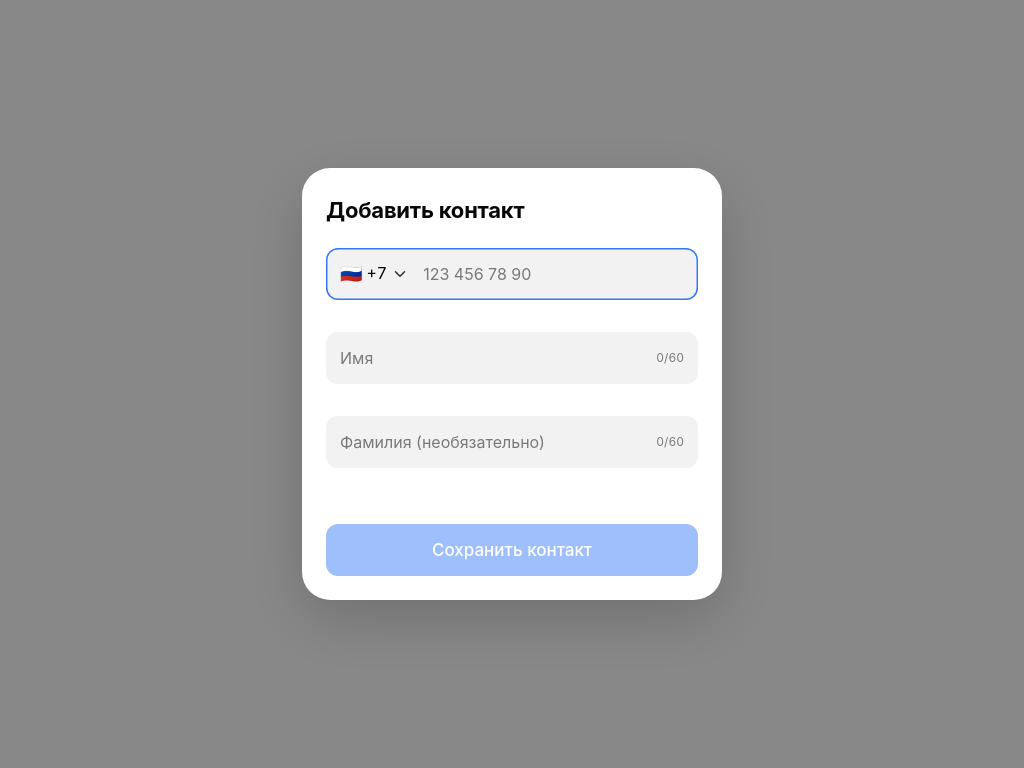
Test: AddContactDialog › кнопка неактивна, пока номер и имя не заполнены
expect the button "Сохранить контакт" is disabled: met, box [326, 524, 698, 576]
Type "9123456789" into the field named "Номер телефона" at (554, 274), box [423, 248, 684, 300]
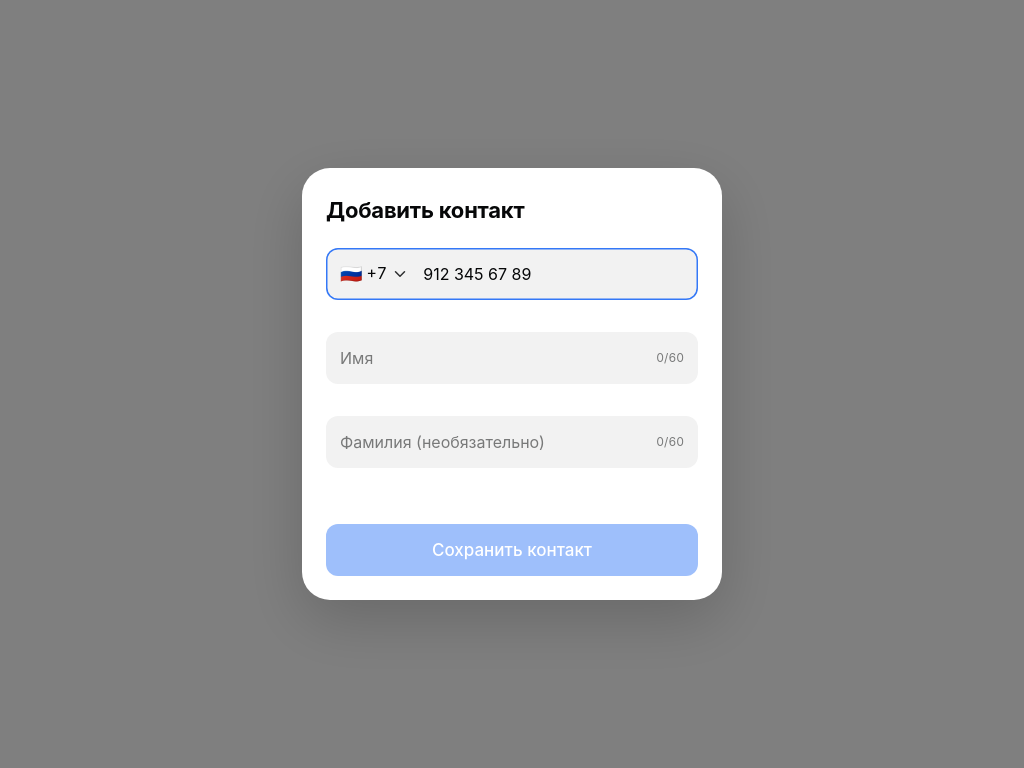
Type "Наталия" into the field labelled "Имя" at (494, 358), box [340, 332, 648, 384]
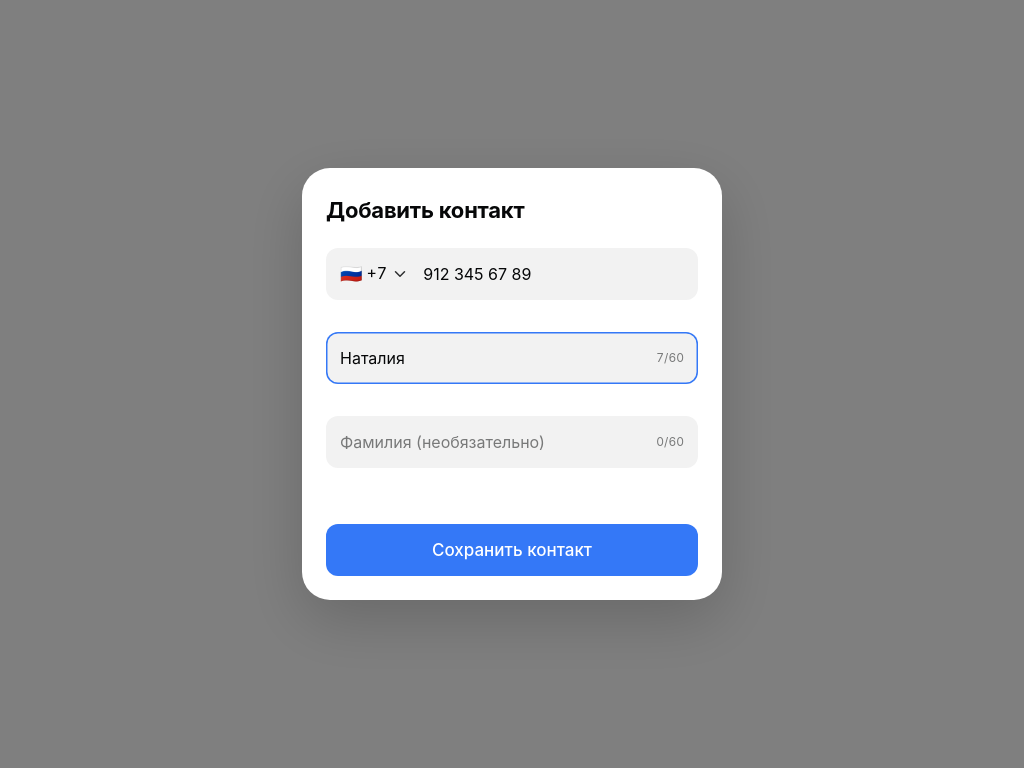
expect the button "Сохранить контакт" is enabled: met, box [326, 524, 698, 576]
